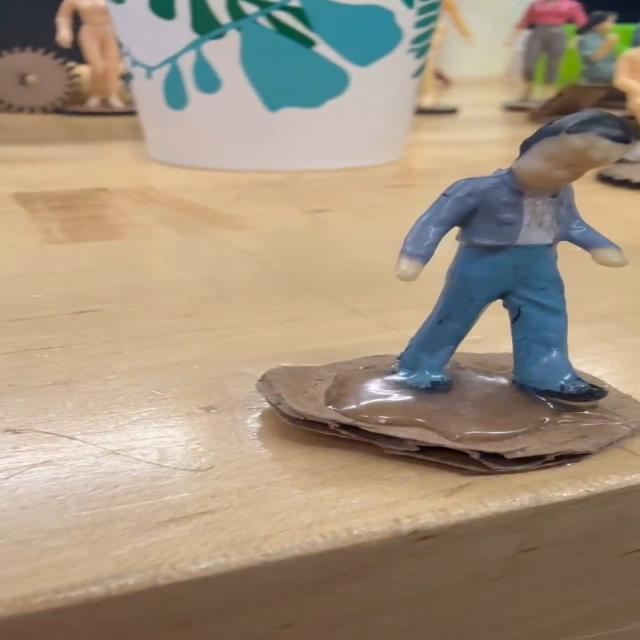Authorized: (380, 109, 640, 384)
